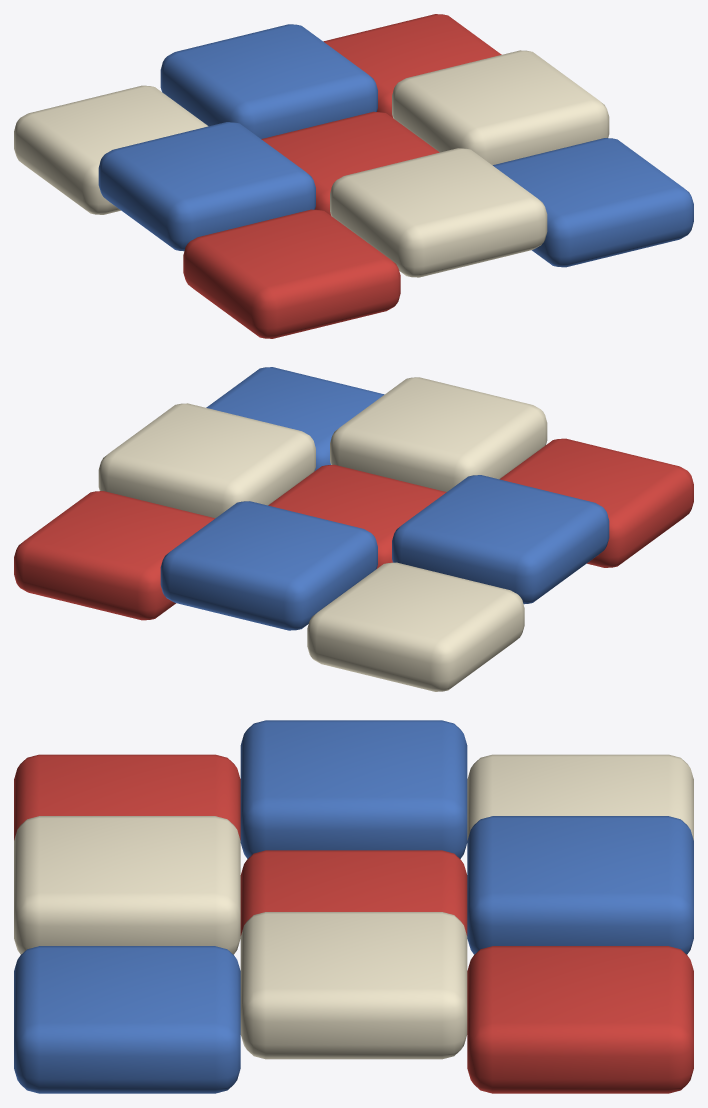
Rendered from quilt.glb.
3 views of the same model, one above another, from view 1: azimuth 30°, elevation 25°; view 2: azimuth 150°, elevation 25°; view 3: azimuth 270°, elevation 25° (orthographic). The views are drawn at different scales.
Visible parts, largest first — view 1: q00, q10, q01, q21, q12, q20, q02, q11, q22; view 2: q02, q12, q01, q21, q10, q22, q00, q11, q20; view 3: q21, q20, q22, q01, q10, q12, q11, q00, q02.
Boxes of the visible parts, x1,y1,x2,y2 form: q00: (183,209,400,338); q10: (330,148,547,277); q01: (98,122,315,251); q21: (392,50,609,165); q12: (160,24,377,138); q20: (493,138,693,267); q02: (14,85,208,214); q11: (261,111,439,215); q22: (323,14,501,117); q02: (307,562,524,691); q12: (160,501,377,630); q01: (392,475,609,604); q21: (98,403,315,518); q10: (330,377,547,491); q22: (14,491,214,620); q00: (499,438,693,567); q11: (268,464,446,568); q20: (206,367,384,470); q21: (240,912,467,1059); q20: (14,946,240,1093); q22: (467,946,693,1093); q01: (240,720,467,858); q10: (14,816,240,954); q12: (467,816,693,954); q11: (240,850,467,935); q00: (14,754,240,840); q02: (467,754,693,840).
Size of the model in its own units: 0.54 by 0.09 by 0.54.
